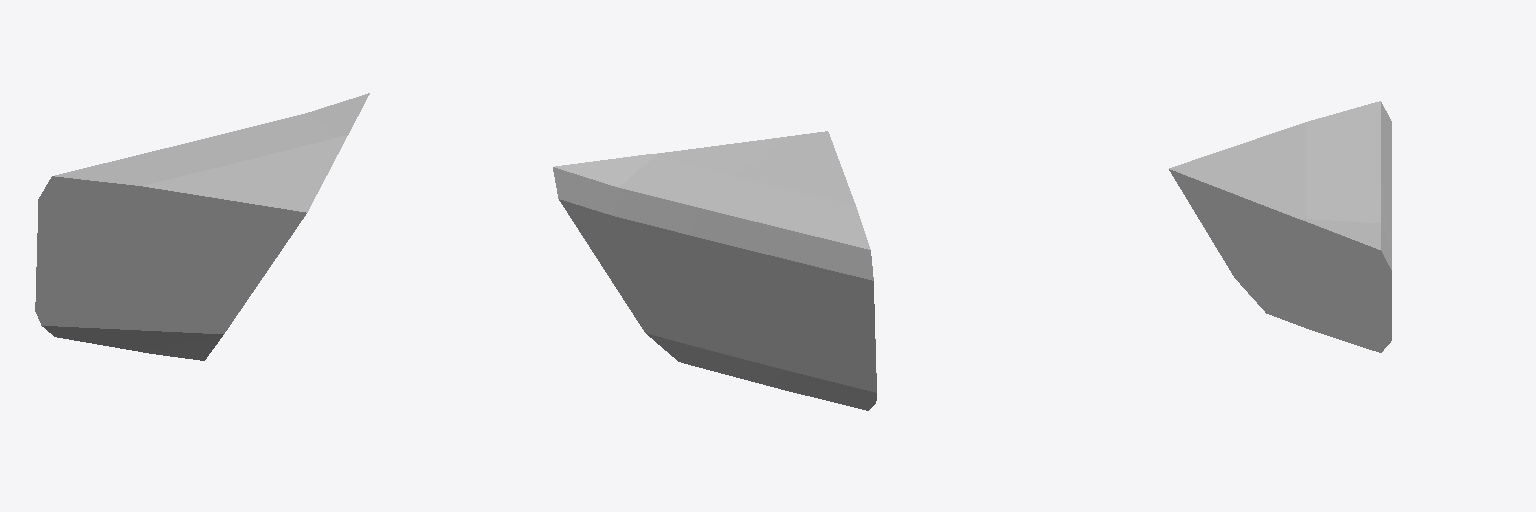
The model's file is torii_broken_040.obj.
3 renders of one model, left to right at view 1: azimuth 30°, elevation 25°; view 2: azimuth 150°, elevation 25°; view 3: azimuth 270°, elevation 25°, orthographic.
Parts seen in each view (by area): view 1: 鳥居.001_cell.040_鳥居.001_cell.046; view 2: 鳥居.001_cell.040_鳥居.001_cell.046; view 3: 鳥居.001_cell.040_鳥居.001_cell.046.
Boxes of the visible parts, x1,y1,x2,y2 form: 鳥居.001_cell.040_鳥居.001_cell.046: [35, 93, 369, 360]; 鳥居.001_cell.040_鳥居.001_cell.046: [553, 131, 876, 410]; 鳥居.001_cell.040_鳥居.001_cell.046: [1169, 101, 1391, 352].
Bounding box in the file's own units: 0.3219 × 0.1603 × 0.1888.